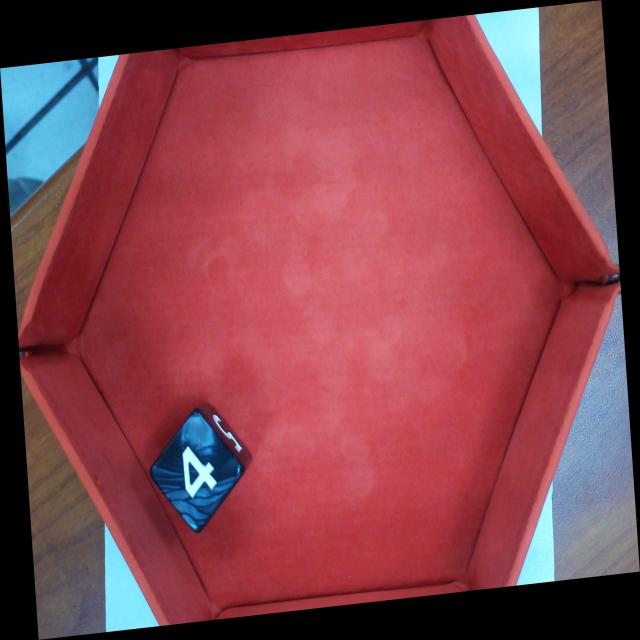dice: (146, 406, 246, 536)
